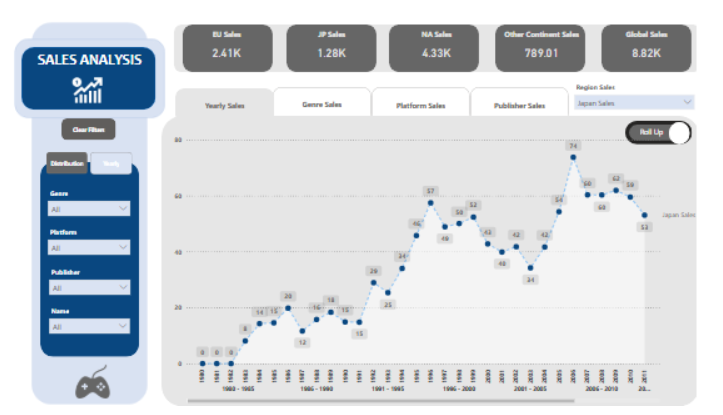

The dashboard page shown, as its layout file describes it:
{"tool":"powerbi","page":{"name":"Sales Analysis","canvas":[1280,720],"ordinal":0},"visuals":[{"type":"shape","box":[301.6,8.3,966,87.3],"z":0,"group":"g6"},{"type":"shape","box":[23.6,51.4,246,115.4],"z":0,"group":"g5"},{"type":"group","id":"g1","title":"White Button Navigator","box":[305.4,123.8,721.4,65.1],"z":0},{"type":"actionButton","title":"Button Yearly Sales","box":[305.8,124.5,181.6,64],"z":0,"group":"g2"},{"type":"actionButton","title":"Button Publisher Sales","box":[846.3,124.5,180.6,64.4],"z":0,"group":"g1"},{"type":"shape","box":[280,177,987.1,532.9],"z":0,"group":"g3"},{"type":"actionButton","title":"Activate Distribution Filter","box":[67.9,241.3,75.1,40.3],"z":0,"group":"g9"},{"type":"slicer","title":"Genre","fields":{"Values":["vgsales.Genre"]},"box":[61.7,305.7,169.6,73.6],"z":0,"group":"g8"},{"type":"shape","box":[317.5,8.5,165,87.3],"z":1000,"group":"g6"},{"type":"textbox","box":[41.7,52.8,212.7,43.1],"z":1000,"group":"g5"},{"type":"group","id":"g2","title":"Ash Button Navigator","box":[305.8,123,722.5,66.3],"z":1000},{"type":"actionButton","title":"Button Genre Sales","box":[485.1,123.8,180.7,63.9],"z":1000,"group":"g1"},{"type":"actionButton","title":"Deactivate Yearly Filter","box":[148.8,241.1,76.9,41],"z":1000,"group":"g9"},{"type":"shape","box":[56.6,261.9,181.6,357.2],"z":1000,"group":"g3"},{"type":"slicer","title":"Publisher","fields":{"Values":["vgsales.Publisher"]},"box":[62.4,450.7,168.3,71.4],"z":1000,"group":"g8"},{"type":"shape","box":[697,8.5,165,87.3],"z":2000,"group":"g6"},{"type":"image","box":[107,94.5,75.1,70.9],"z":2000,"group":"g5"},{"type":"actionButton","title":"Button Platform Sales","box":[665.7,124.5,180.6,64.4],"z":2000,"group":"g1"},{"type":"slicer","title":"Name","fields":{"Values":["vgsales.Name"]},"box":[63.2,520.5,166.7,71.4],"z":2000,"group":"g8"},{"type":"shape","box":[1086.7,8.5,165,87.3],"z":3000,"group":"g6"},{"type":"group","id":"g3","title":"Shapes","box":[56.6,177,1210.6,532.9],"z":3000},{"type":"shape","title":"Roll Up Shape","box":[1131.3,186.1,122.4,43.1],"z":3000,"group":"g4"},{"type":"areaChart","title":"GRAPH Yearly Sales","fields":{"Y":["Measures Table.JP Sales"],"Category":["vgsales.Year (groups) Hierarchy.Year (groups)","vgsales.Year (groups) Hierarchy.Year"]},"box":[297.4,207.3,969.1,501.4],"z":3000,"group":"g7"},{"type":"slicer","title":"Platform","fields":{"Values":["vgsales.Platform"]},"box":[61.6,377.7,169.8,74.6],"z":3000,"group":"g8"},{"type":"image","box":[118.3,624.4,72.8,78.5],"z":3000,"group":"g5"},{"type":"shape","box":[507.9,8.5,165,87.3],"z":4000,"group":"g6"},{"type":"group","id":"g4","title":"Yearly Sales Drill Down VS Roll Up","box":[1131,186.1,123,42.7],"z":4000},{"type":"actionButton","title":"Toggle Roll Up","box":[1211,187.5,37.7,40.6],"z":4000,"group":"g4"},{"type":"shape","box":[891.2,8.5,165,87.3],"z":5000,"group":"g6"},{"type":"textbox","title":"Roll Up Text box","box":[1139.9,193,77.6,31],"z":5000,"group":"g4"},{"type":"card","title":"EU Sales","fields":{"Values":["Sum(vgsales.EU_Sales)"]},"box":[312.4,17.2,170.1,69.5],"z":6000,"group":"g6"},{"type":"group","id":"g5","title":"Logo","box":[23.6,51.4,246,651.5],"z":6000},{"type":"group","id":"g6","title":"Sales Cards","box":[301.6,8.3,966,87.6],"z":7000},{"type":"card","title":"JP Sales","fields":{"Values":["Sum(vgsales.JP_Sales)"]},"box":[505.2,17.2,170.1,69.5],"z":8000,"group":"g6"},{"type":"group","id":"g7","title":"Sales","box":[288.7,202.4,977.9,518],"z":8000},{"type":"card","title":"NA Sales","fields":{"Values":["Sum(vgsales.NA_Sales)"]},"box":[698,17.2,170.1,69.5],"z":9000,"group":"g6"},{"type":"actionButton","title":"Clear Filters","box":[96.7,181.6,99.7,40.2],"z":9000},{"type":"card","title":"Other Continent Sales","fields":{"Values":["Sum(vgsales.Other_Sales)"]},"box":[890.8,17.2,170.1,69.5],"z":10000,"group":"g6"},{"type":"group","id":"g8","title":"Slicers","box":[56.6,305.7,180.1,286.2],"z":10000},{"type":"card","title":"Global Sales","fields":{"Values":["Sum(vgsales.Global_Sales)"]},"box":[1083.6,17.2,170.1,69.5],"z":11000,"group":"g6"},{"type":"group","id":"g9","title":"Activate - Deactivate Slicers","box":[67.9,239.6,157.8,42.5],"z":11000},{"type":"slicer","fields":{"Values":["Numeric KPI.Numeric KPI"]},"box":[1028,110,240,64],"z":12000}]}

Visuals, with their boxes in screenshot pixels (x1, y1, x2, y2), scaled from the page's 1280x720 canvas onto the 723x415 screenshot:
shape: (170, 5, 716, 55)
shape: (13, 30, 152, 96)
"White Button Navigator" group: (173, 71, 580, 109)
"Button Yearly Sales" actionButton: (173, 72, 275, 109)
"Button Publisher Sales" actionButton: (478, 72, 580, 109)
shape: (158, 102, 716, 409)
"Activate Distribution Filter" actionButton: (38, 139, 81, 162)
"Genre" slicer: (35, 176, 131, 219)
shape: (179, 5, 273, 55)
textbox: (24, 30, 144, 55)
"Ash Button Navigator" group: (173, 71, 581, 109)
"Button Genre Sales" actionButton: (274, 71, 376, 108)
"Deactivate Yearly Filter" actionButton: (84, 139, 127, 163)
shape: (32, 151, 135, 357)
"Publisher" slicer: (35, 260, 130, 301)
shape: (394, 5, 487, 55)
image: (60, 54, 103, 95)
"Button Platform Sales" actionButton: (376, 72, 478, 109)
"Name" slicer: (36, 300, 130, 341)
shape: (614, 5, 707, 55)
"Shapes" group: (32, 102, 716, 409)
"Roll Up Shape" shape: (639, 107, 708, 132)
"GRAPH Yearly Sales" areaChart: (168, 119, 715, 408)
"Platform" slicer: (35, 218, 131, 261)
image: (67, 360, 108, 405)
shape: (287, 5, 380, 55)
"Yearly Sales Drill Down VS Roll Up" group: (639, 107, 708, 132)
"Toggle Roll Up" actionButton: (684, 108, 705, 131)
shape: (503, 5, 597, 55)
"Roll Up Text box" textbox: (644, 111, 688, 129)
"EU Sales" card: (176, 10, 273, 50)
"Logo" group: (13, 30, 152, 405)
"Sales Cards" group: (170, 5, 716, 55)
"JP Sales" card: (285, 10, 381, 50)
"Sales" group: (163, 117, 715, 414)
"NA Sales" card: (394, 10, 490, 50)
"Clear Filters" actionButton: (55, 105, 111, 128)
"Other Continent Sales" card: (503, 10, 599, 50)
"Slicers" group: (32, 176, 134, 341)
"Global Sales" card: (612, 10, 708, 50)
"Activate - Deactivate Slicers" group: (38, 138, 127, 163)
slicer - Numeric KPI.Numeric KPI: (581, 63, 716, 100)
